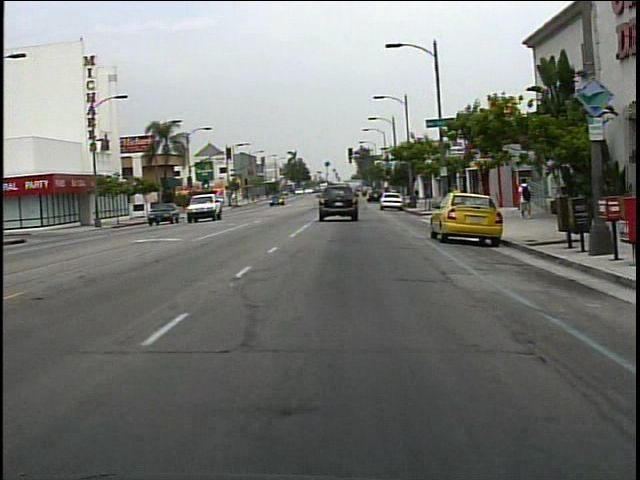person: (512, 173, 537, 222)
